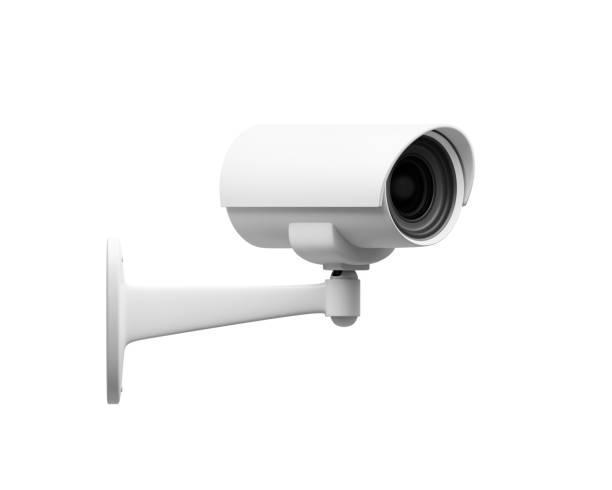camera: (180, 104, 493, 338)
